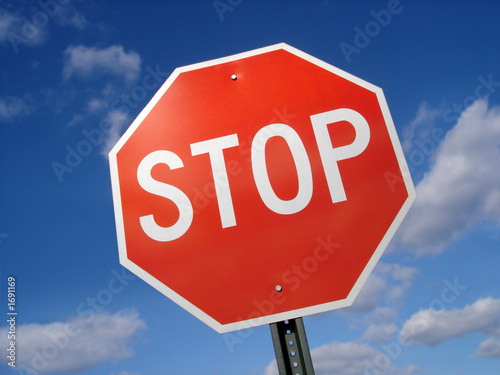StopSign: (106, 42, 416, 334)
